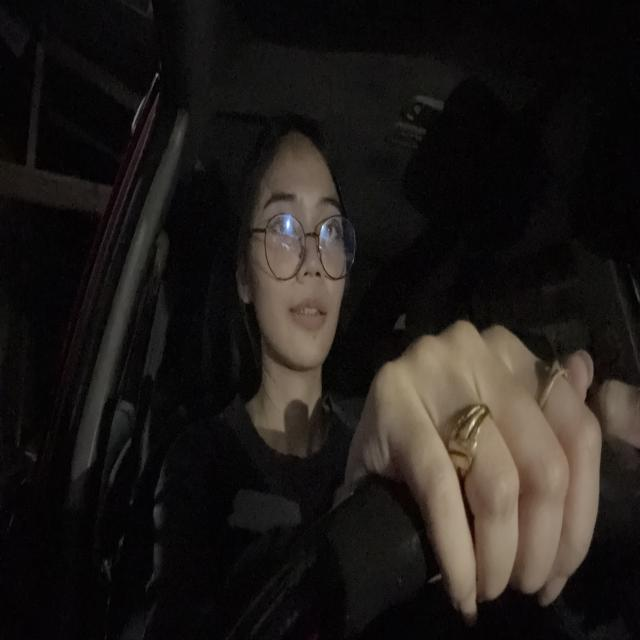open: (262, 188, 300, 246), (316, 193, 346, 254)
